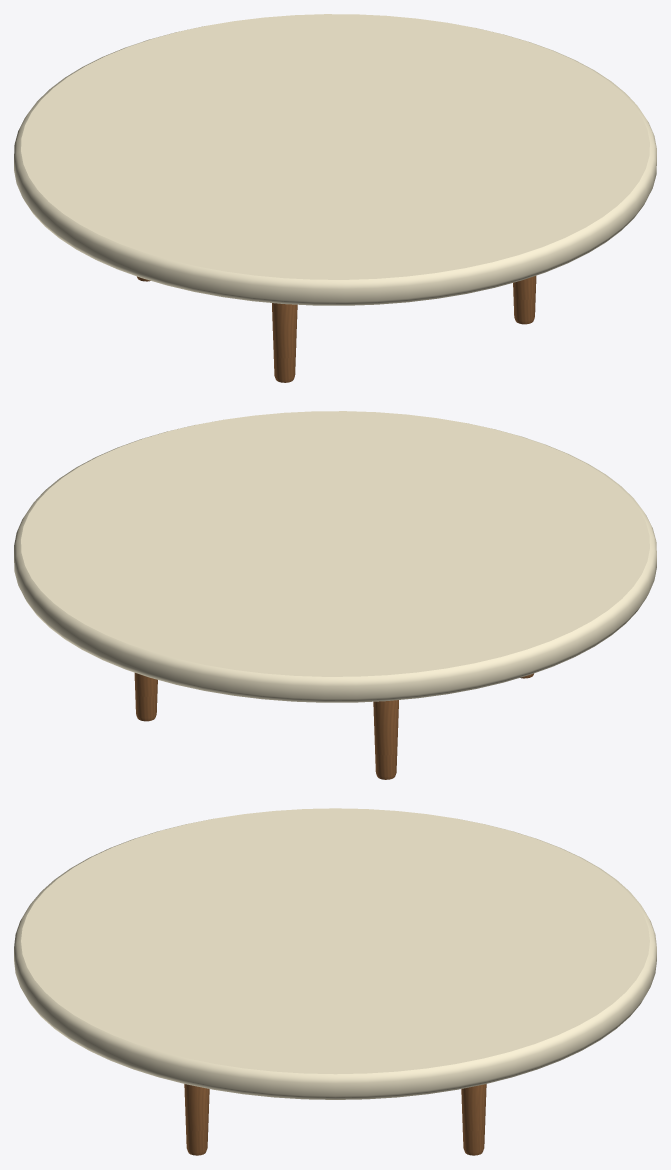
Rendered from home-table.fbx.
3 views of the same model, one above another, from view 1: azimuth 30°, elevation 25°; view 2: azimuth 150°, elevation 25°; view 3: azimuth 270°, elevation 25° (orthographic).
Visible parts, largest first — view 1: home-table; view 2: home-table; view 3: home-table.
Part boxes in pixels (x1,y1,x2,y2): home-table: (14, 14, 656, 382); home-table: (14, 411, 656, 779); home-table: (14, 808, 656, 1155).
Size of the model in its own units: 460 by 120 by 460.
